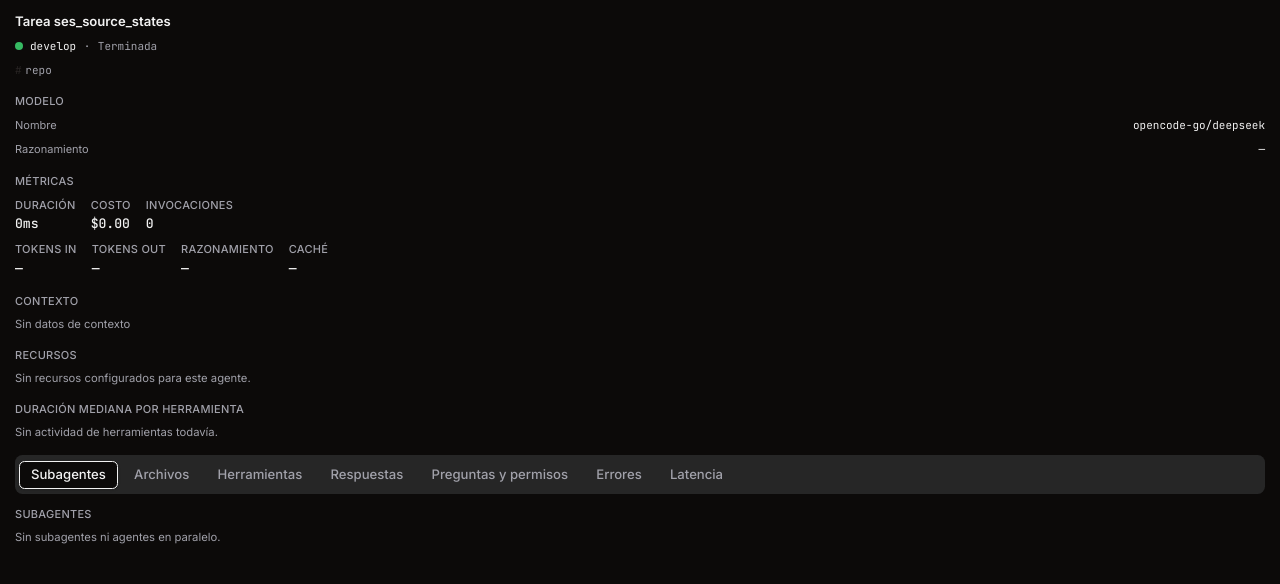
Test: InspectorPanel — estados por fuente de cada sección (§5, U6↔U4) › Archivos: el diff pendiente muestra carga y nunca el vacío ni el error
What coordinates should you click on to do the following:
click the tab "Archivos"
I would click on:
 (162, 475)
Its box is left=122, top=461, right=201, bottom=489.
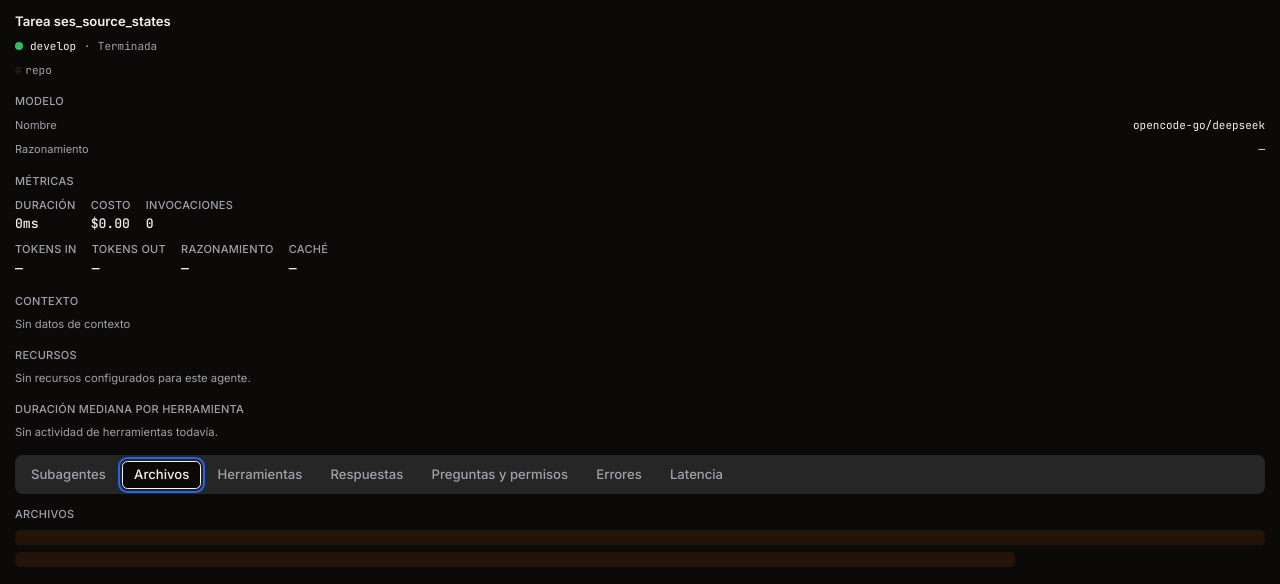
Check: the text "Archivos" is shown, box left=15, top=506, right=74, bottom=520
